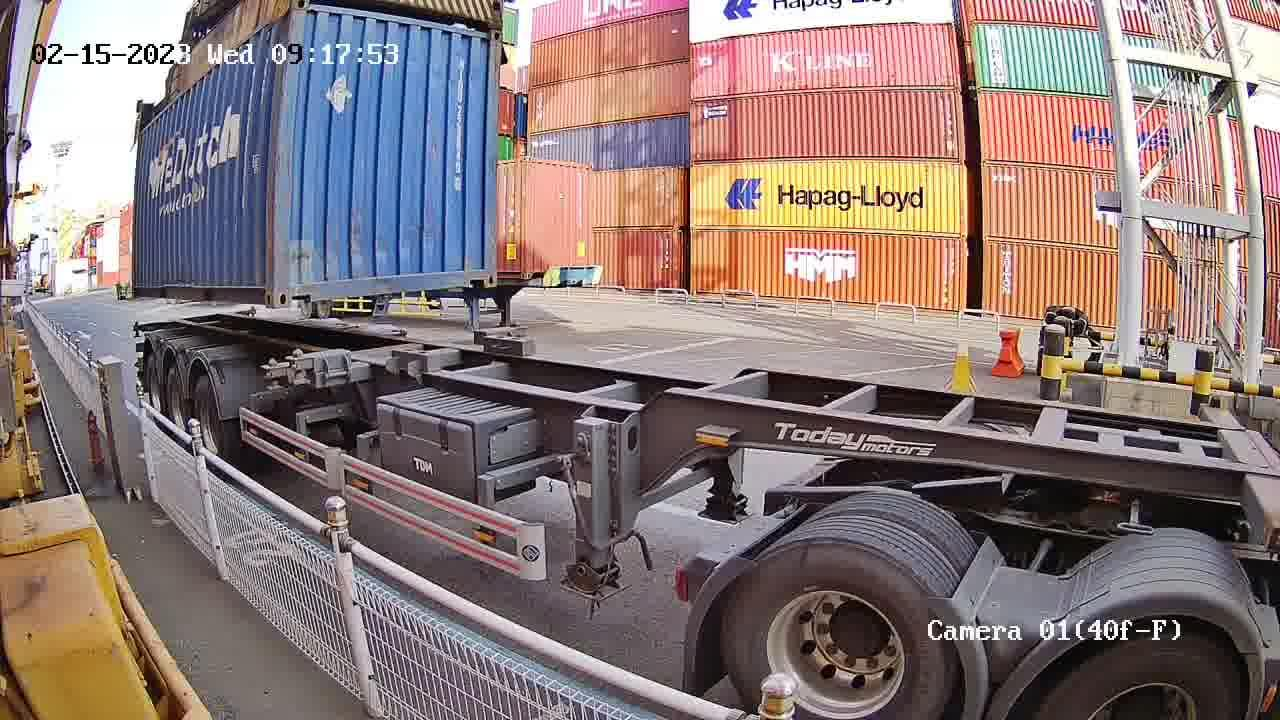Chassis: (294, 327, 523, 377)
Cone: (289, 347, 305, 385), (508, 318, 526, 343)
Hole_L: (274, 262, 316, 306)
Hole_R: (456, 249, 499, 288), (243, 265, 275, 308)
Tire: (722, 543, 944, 716), (1042, 636, 1242, 715), (195, 381, 224, 449), (167, 366, 188, 423), (148, 357, 163, 414)
